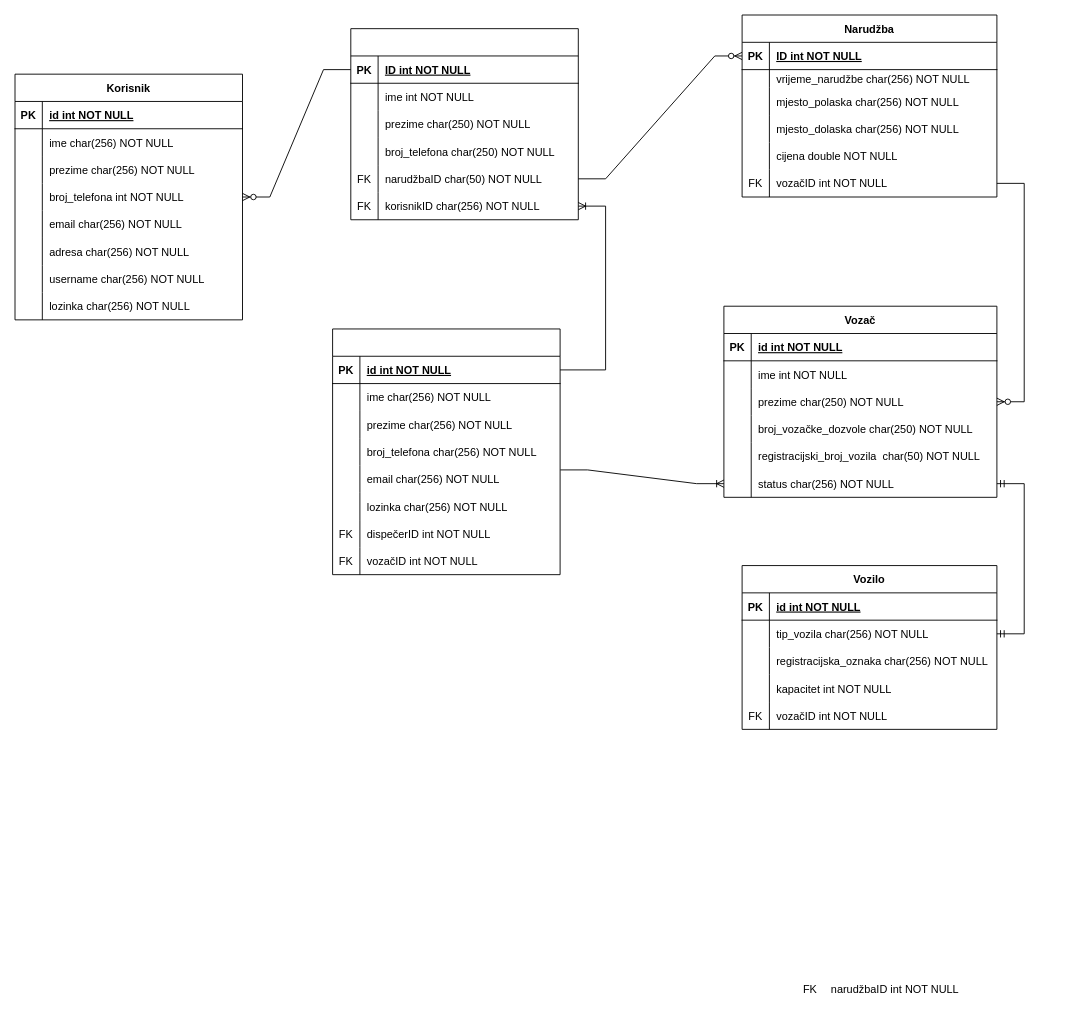
Image size: 1085x1017. Some labels were removed from this diagram. Each missing label, with the box of its shape:
Administrator: (332, 328, 560, 575)
Dispečer: (350, 28, 578, 220)
